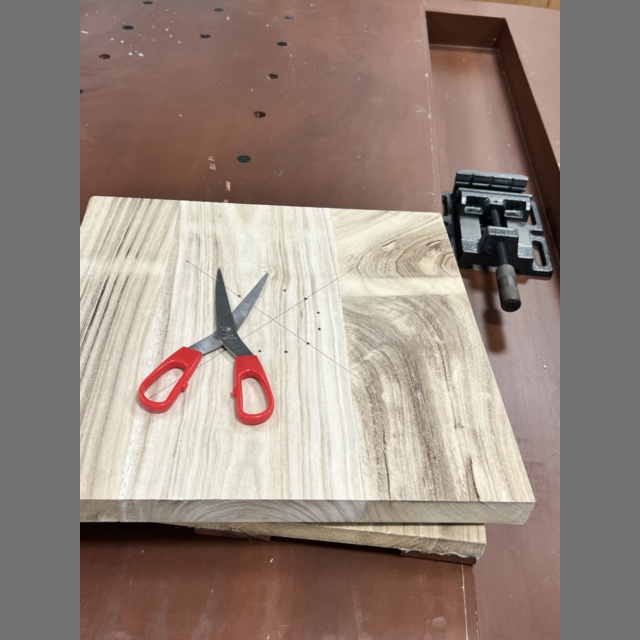scissor: (138, 269, 274, 426)
